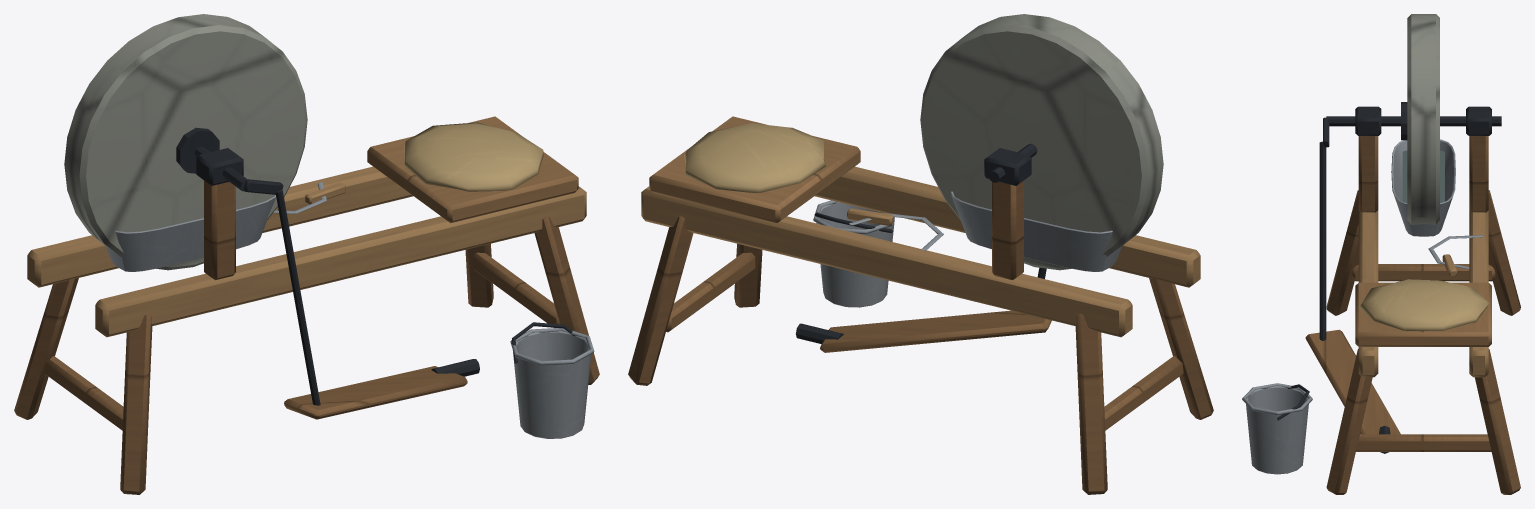
Rendered from grindstone.glb.
The picture shows the model from 3 angles, left to right: view 1: azimuth 30°, elevation 25°; view 2: azimuth 150°, elevation 25°; view 3: azimuth 270°, elevation 25°; orthographic projection. The views are drawn at different scales.
Parts seen in each view (by area): view 1: grindstone.001; view 2: grindstone.001; view 3: grindstone.001.
Part boxes in pixels (bbox=[...]): grindstone.001: bbox=[14, 14, 599, 494]; grindstone.001: bbox=[628, 14, 1213, 494]; grindstone.001: bbox=[1242, 14, 1520, 494].
Size of the model in its own units: 1.4 by 1.12 by 0.8581.
Materials: 11 (11 with a texture image).
